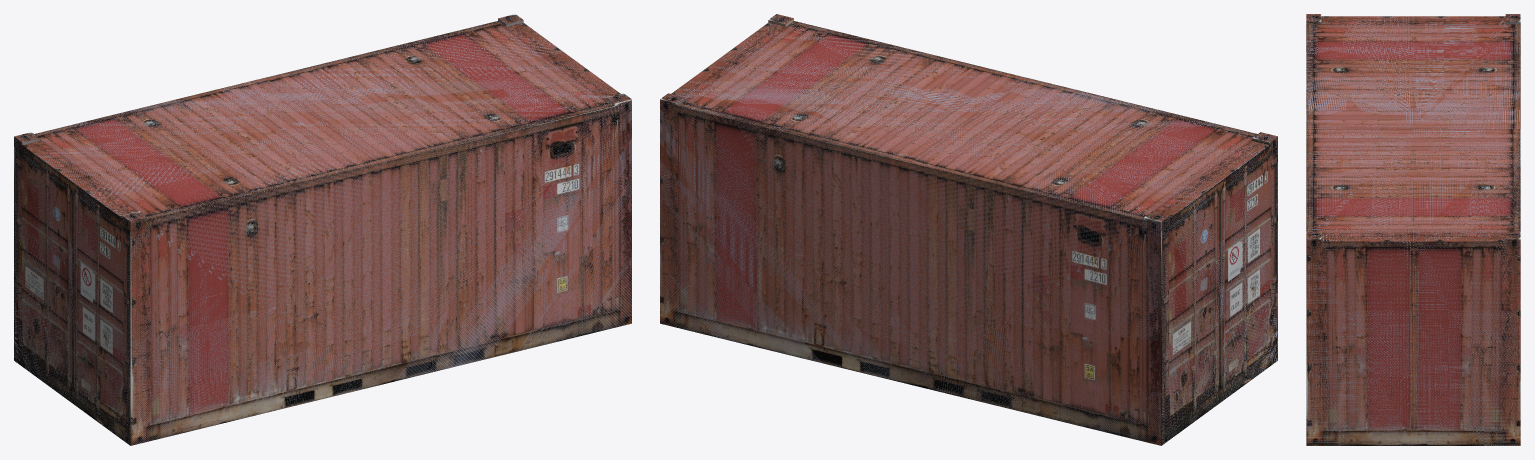
Rendered from Container.dae.
3 views of the same model, side by side, from view 1: azimuth 30°, elevation 25°; view 2: azimuth 150°, elevation 25°; view 3: azimuth 270°, elevation 25° (orthographic). The views are drawn at different scales.
Parts seen in each view (by area): view 1: SketchUp (×2); view 2: SketchUp (×2); view 3: SketchUp.
Part boxes in pixels (left/top/right/bottom): SketchUp (×2): left=14, top=14, right=631, bottom=445; SketchUp (×2): left=660, top=14, right=1277, bottom=445; SketchUp: left=1306, top=14, right=1520, bottom=445.
Bounding box in the file's own units: 239 × 95.98 × 102.
